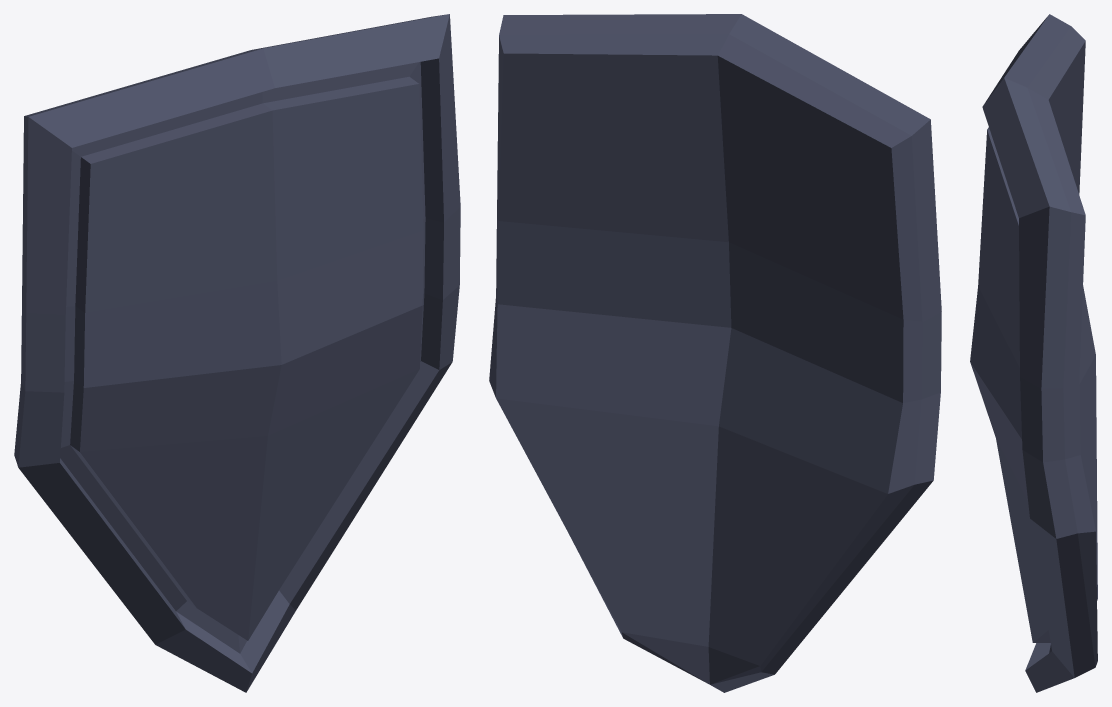
File: simpleshield.fbx
3 views of the same model, side by side, from view 1: azimuth 30°, elevation 25°; view 2: azimuth 150°, elevation 25°; view 3: azimuth 270°, elevation 25° (orthographic). The views are drawn at different scales.
Visible parts, largest first — view 1: SimpleShield; view 2: SimpleShield; view 3: SimpleShield.
Boxes of the visible parts, x1,y1,x2,y2 form: SimpleShield: (14,14,460,692); SimpleShield: (489,14,941,692); SimpleShield: (970,14,1097,692).
Size of the model in its own units: 108 by 157 by 29.52.
